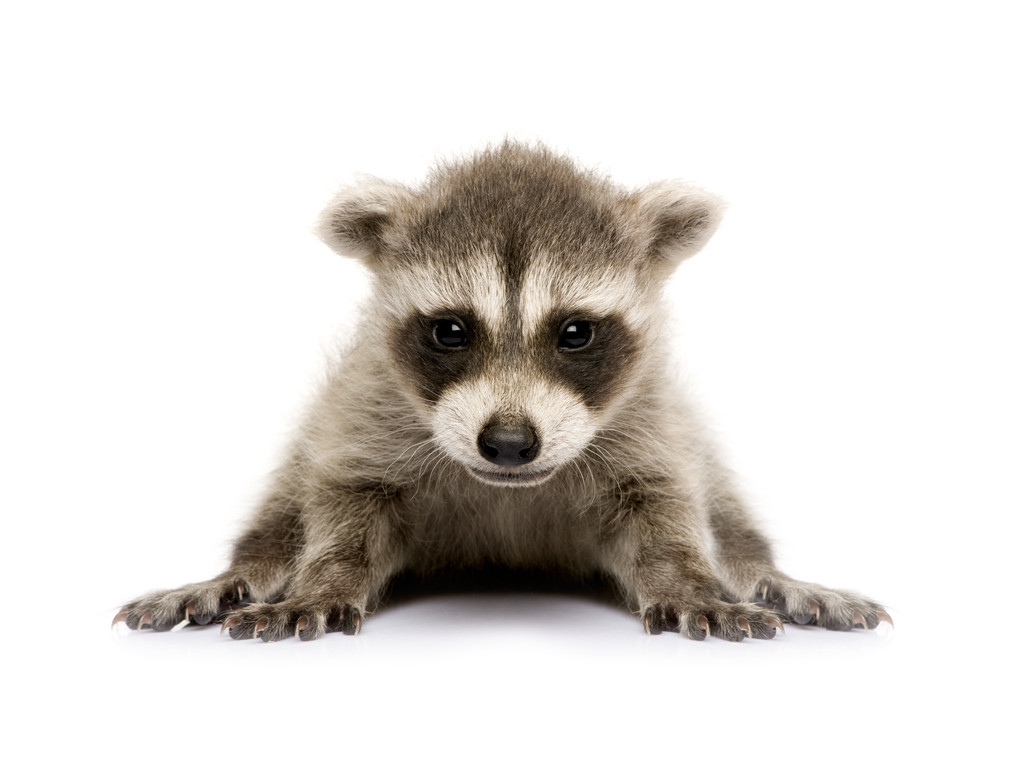raccoon: (97, 134, 907, 678)
